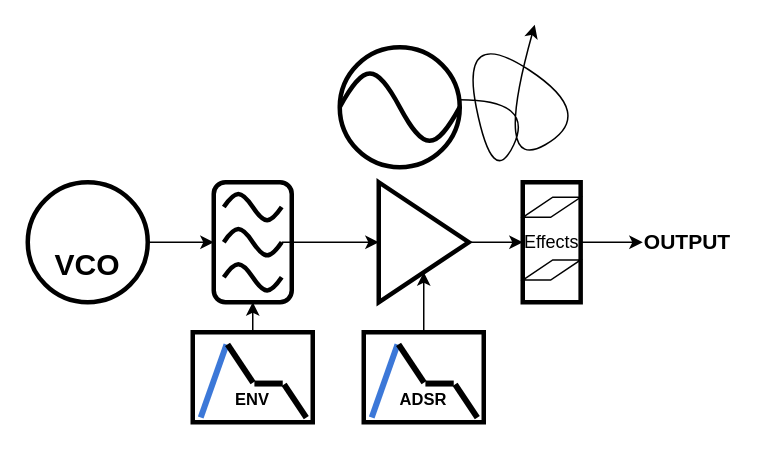
Image size: 759x450. Some labels were removed from this diagram. The shapes that lost their labels are listed below. From the top down, each one's box as (x1, y1, x2, y2) in pixels, then its label:
(337, 59, 461, 154): LFO
(376, 179, 470, 304): VCA
